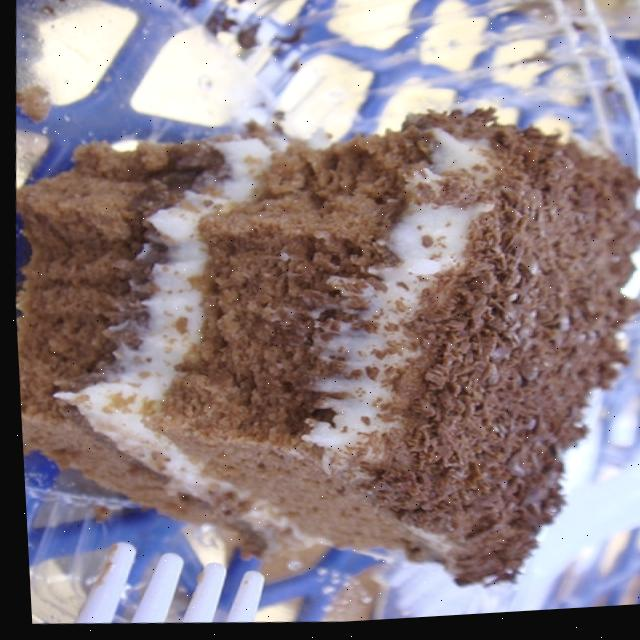蛋糕甜品: (1, 0, 640, 640)
